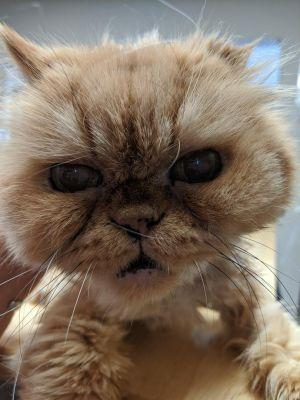persian: (1, 1, 289, 313)
